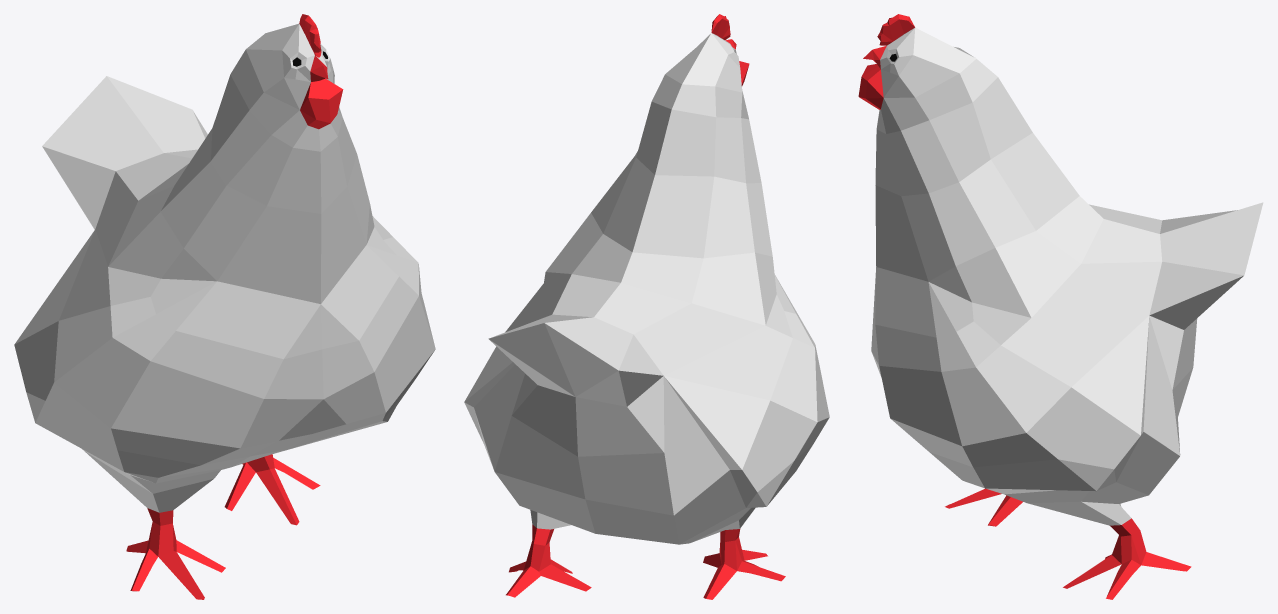
The model's file is Hen_1.FBX.
3 renders of one model, left to right at view 1: azimuth 30°, elevation 25°; view 2: azimuth 150°, elevation 25°; view 3: azimuth 270°, elevation 25°, orthographic. The views are drawn at different scales.
Parts seen in each view (by area): view 1: Hen_1; view 2: Hen_1; view 3: Hen_1.
Boxes of the visible parts, <box> form: Hen_1: <box>14,14,435,599</box>; Hen_1: <box>464,14,829,599</box>; Hen_1: <box>858,14,1263,599</box>.
Bounding box in the file's own units: 0.3974 × 0.6159 × 0.4198.
1 material, 1 textured.
